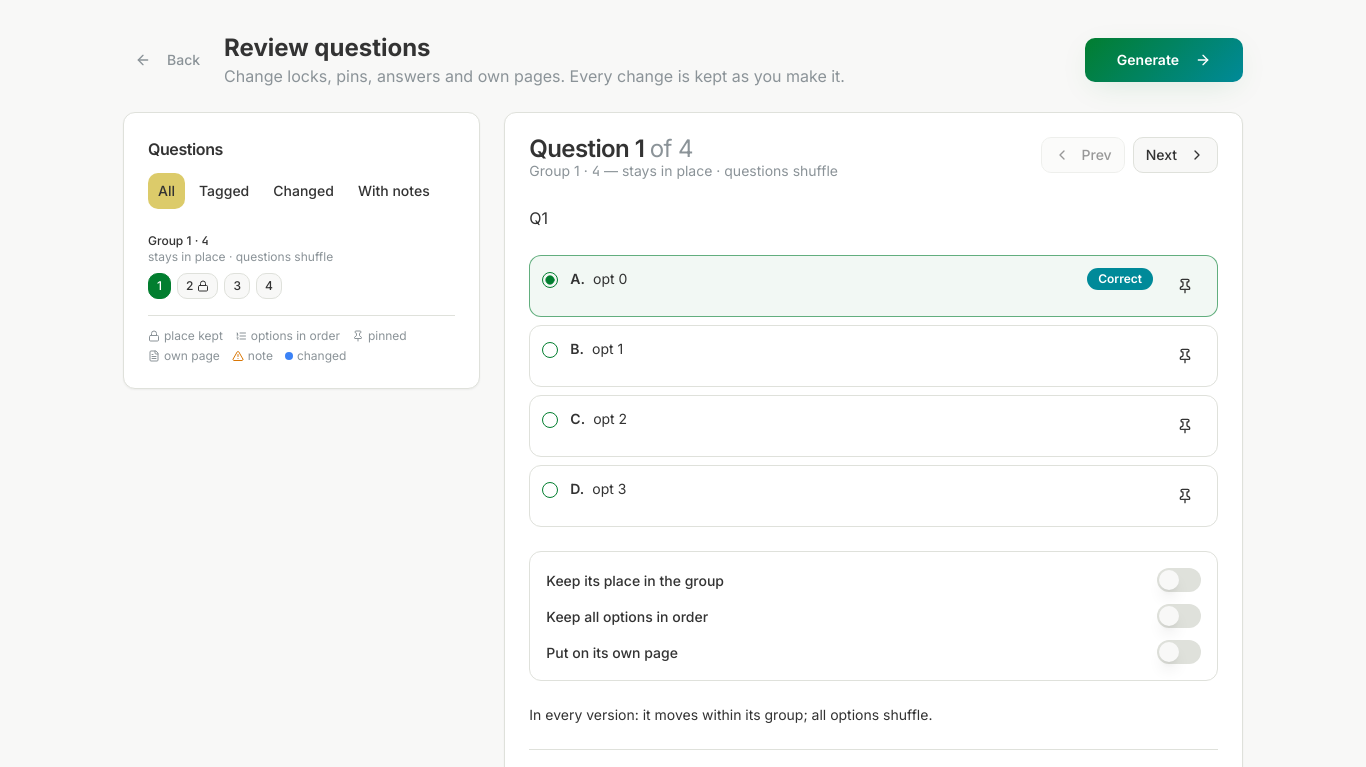
Test: Questions page › filters narrow the navigator only; the shown question stays
Click the button with test id "chip-3".
click(237, 286)  # box [224,273,250,299]
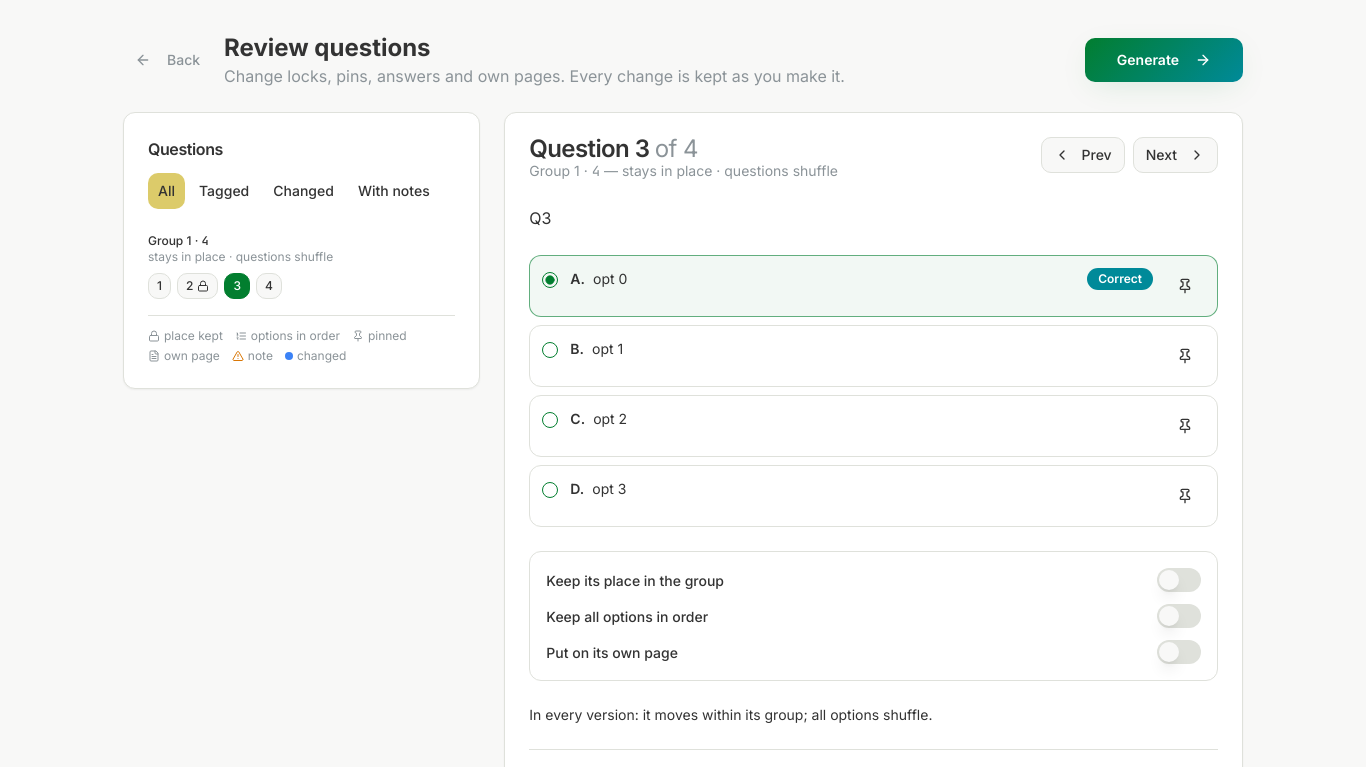
Click the radio button labelled "Tagged".
click(224, 191)  # box [189,173,259,209]
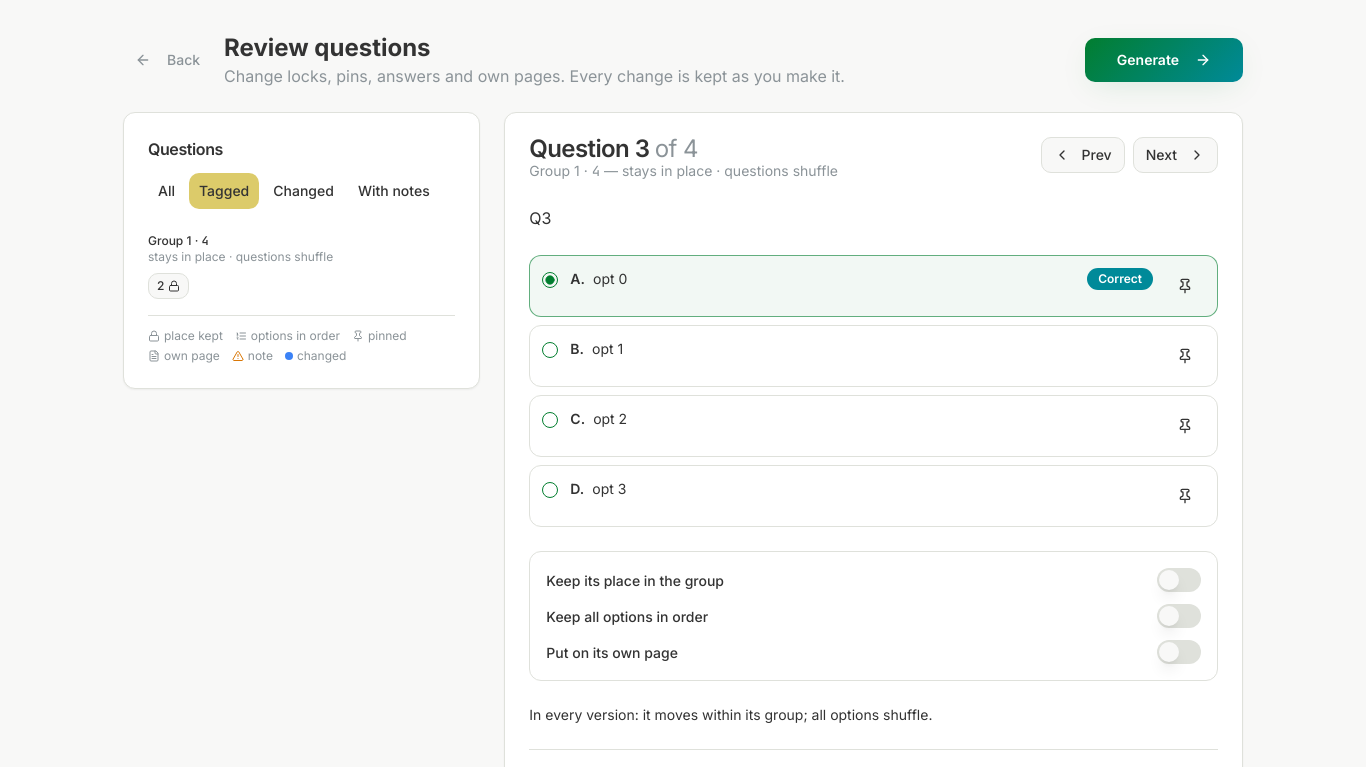
Check: the heading with test id "question-title" reads "Question 3 of 4", box [529,134,698,163]
Click the button "Next".
click(1175, 155)  # box [1133,137,1218,173]
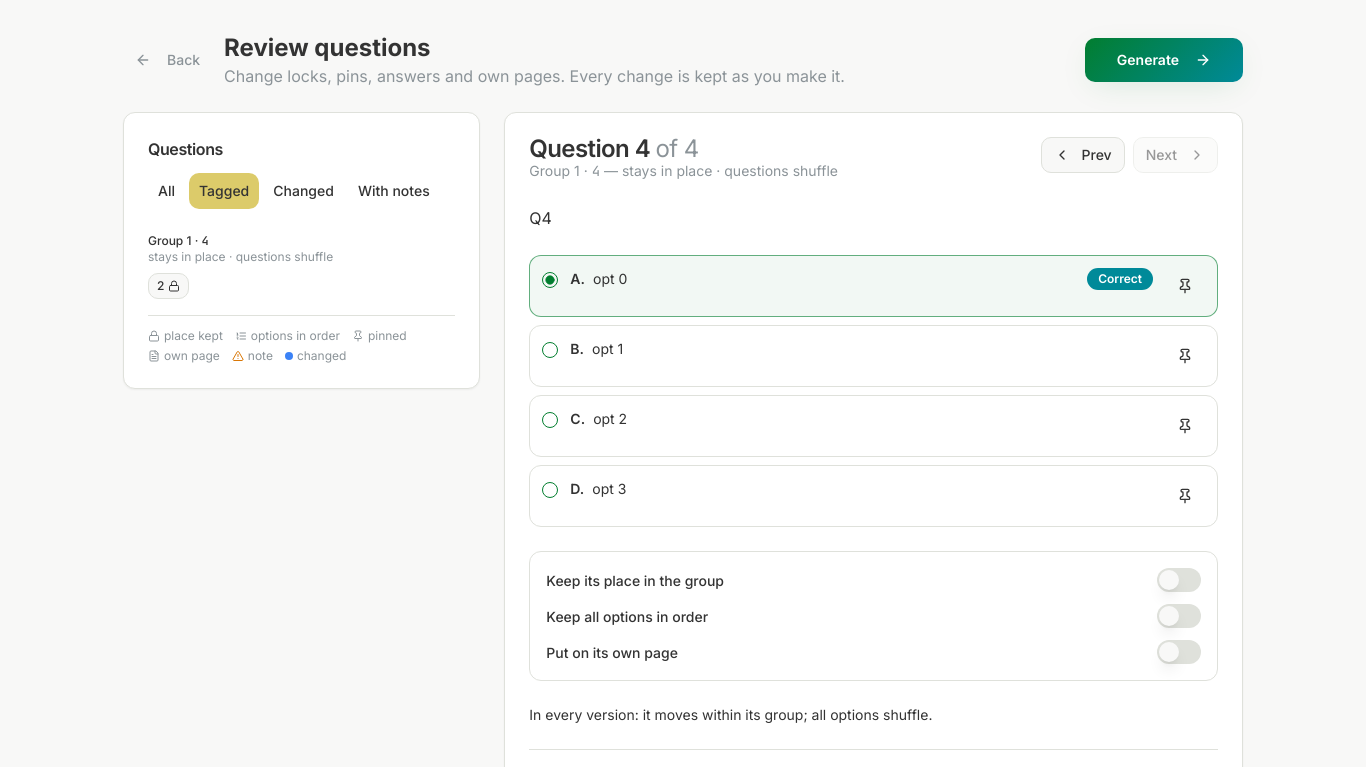
Check: the heading with test id "question-title" reads "Question 4 of 4", box [529,134,699,163]
